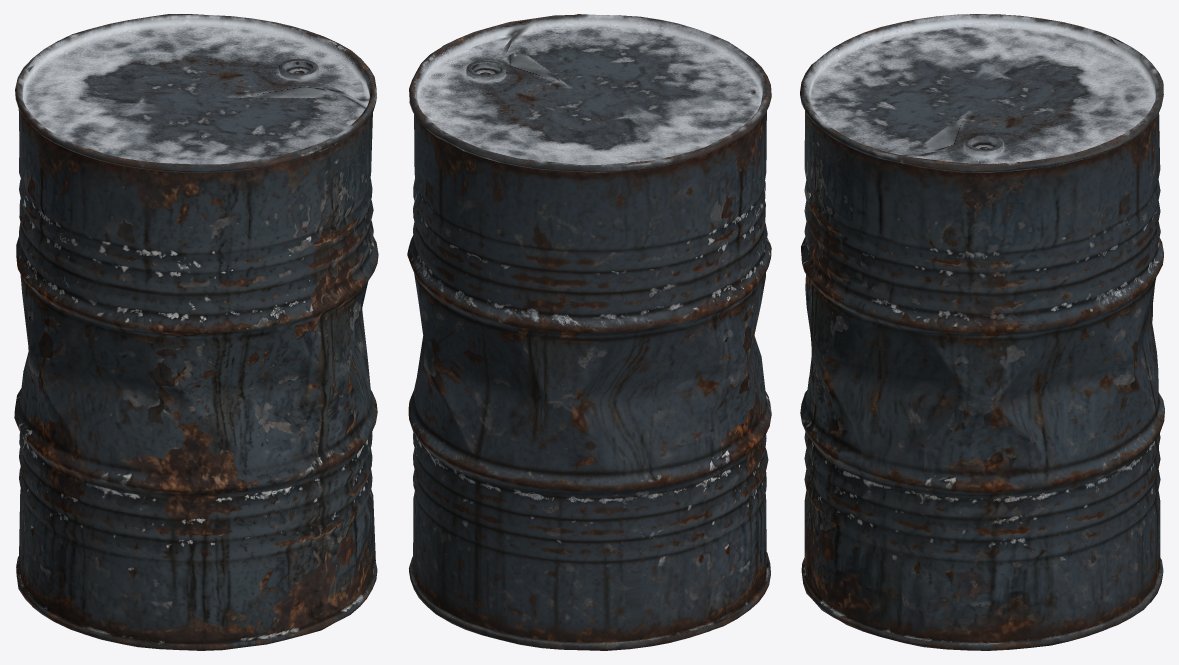
Rendered from jt_oil_drum.glb.
3 renders of one model, left to right at view 1: azimuth 30°, elevation 25°; view 2: azimuth 150°, elevation 25°; view 3: azimuth 270°, elevation 25°, orthographic.
Bounding box in the file's own units: 0.6479 × 0.9512 × 0.646.
1 material, 1 textured.
